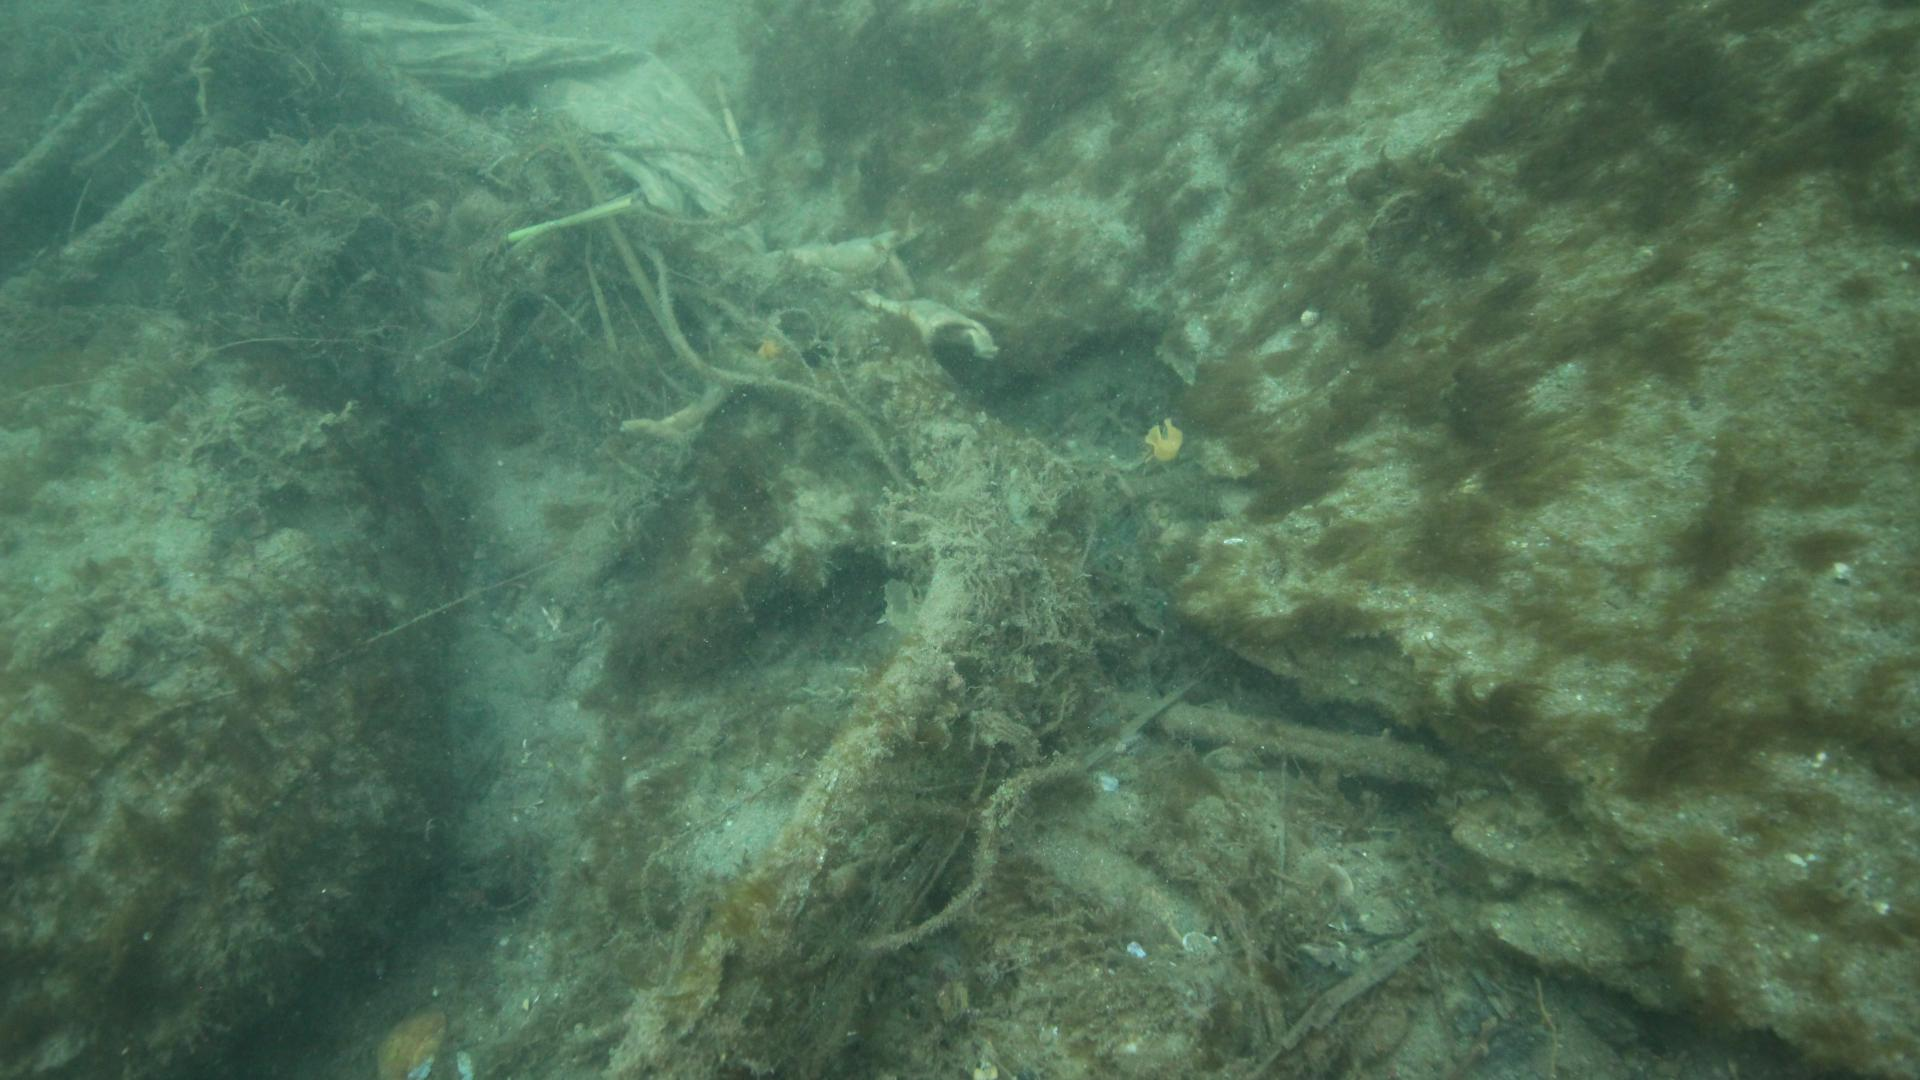rope: (330, 29, 1011, 880)
